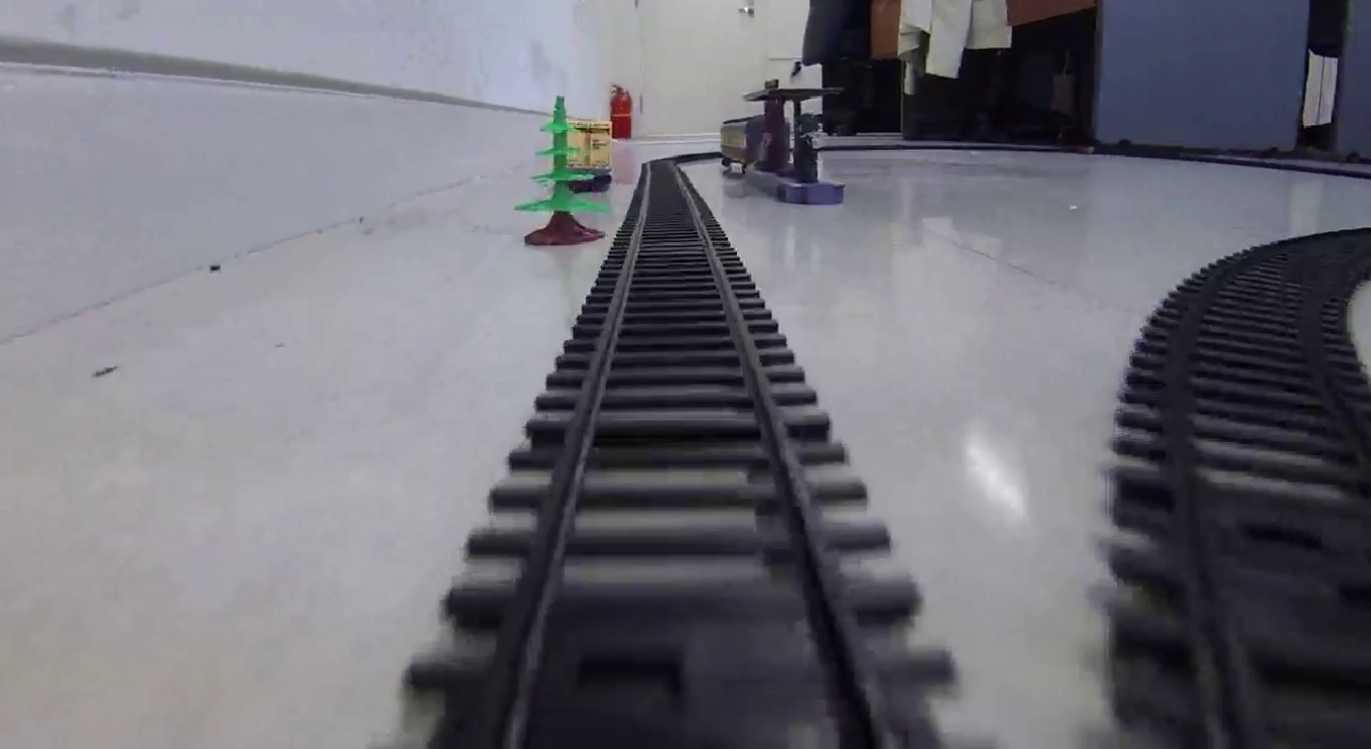tree: (515, 96, 605, 247)
